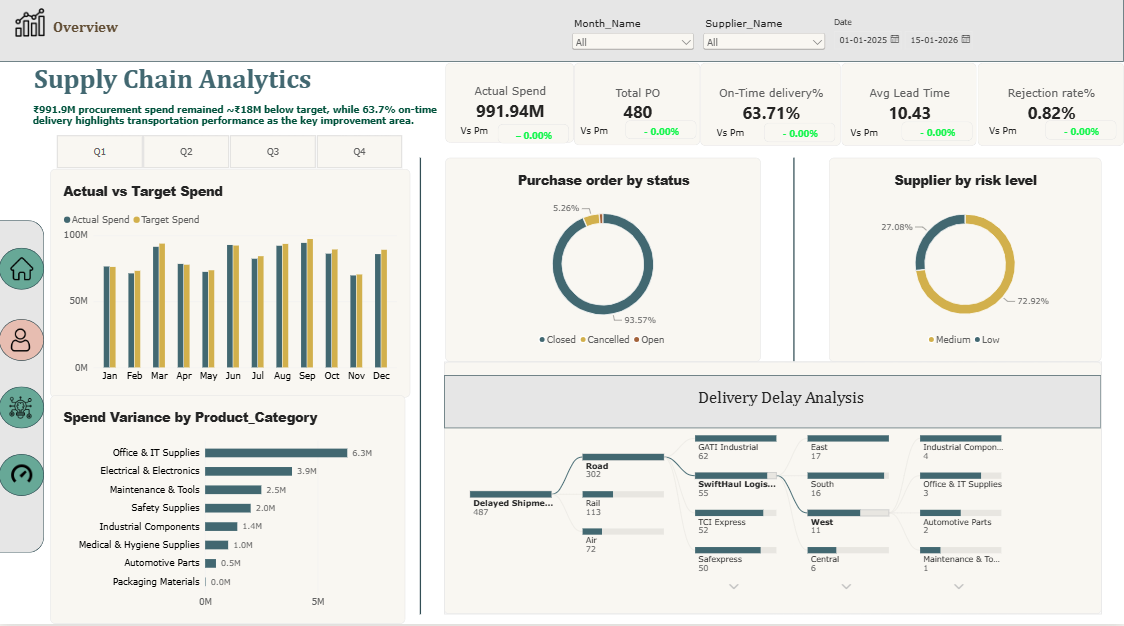

The dashboard page shown, as its layout file describes it:
{"tool":"powerbi","page":{"name":"Overview","canvas":[1800,1000],"ordinal":1},"visuals":[{"type":"shape","box":[0,0,1799.6,100.5],"z":0,"group":"g8"},{"type":"cardVisual","fields":{"Data":["1st page measures.Rejection rate%"]},"box":[1565.3,101.5,234.7,133.9],"z":0,"group":"g6"},{"type":"cardVisual","fields":{"Data":["1st page measures.Mom Var Rejection Rate"]},"box":[1673.8,193.8,114.9,31],"z":1000,"group":"g6"},{"type":"shape","box":[0,353.6,72,532],"z":1000},{"type":"textbox","box":[85.5,30.2,135.7,53.6],"z":2000,"group":"g8"},{"type":"textbox","box":[1583.8,201.3,78.8,23.8],"z":2000,"group":"g6"},{"type":"image","box":[25.1,0,46.9,75.4],"z":3000,"group":"g8"},{"type":"textbox","box":[56,102,508,66],"z":4000},{"type":"shape","box":[0,398.8,72.1,67],"z":5000},{"type":"shape","box":[0,512.7,72.1,67],"z":6000},{"type":"shape","box":[0,620,72.1,67],"z":7000},{"type":"shape","box":[0,727.2,72.1,67],"z":8000},{"type":"image","box":[18.4,398.8,36.9,67],"z":9000},{"type":"image","box":[18.4,727.2,36.9,67],"z":10000},{"type":"image","box":[16.8,512.7,36.9,67],"z":11000},{"type":"image","box":[16.8,620,36.9,67],"z":12000},{"type":"cardVisual","fields":{"Data":["1st page measures.Actual_procurement_spend"]},"box":[713.5,102.9,206.9,128.7],"z":13000,"group":"g2"},{"type":"clusteredColumnChart","title":"Actual vs Target Spend","fields":{"Category":["Dim_date.Month_Name"],"Y":["1st page measures.Actual Spend","1st page measures.Target Spend"]},"box":[81.6,271.1,576.4,365.3],"z":13000},{"type":"cardVisual","fields":{"Data":["1st page measures.Total PO"]},"box":[920.8,102.2,202.5,132.5],"z":14000,"group":"g9"},{"type":"cardVisual","fields":{"Data":["1st page measures.On-Time delivery%"]},"box":[1121.2,102.5,225,133.9],"z":14000,"group":"g4"},{"type":"cardVisual","fields":{"Data":["1st page measures.Mom Var spend"]},"box":[797.7,200.1,114.9,31],"z":14000,"group":"g2"},{"type":"clusteredBarChart","fields":{"Category":["Dim_Category.Product_Category"],"Y":["1st page measures.Spend Variance"]},"box":[81.6,634.2,568.1,365.3],"z":14000},{"type":"cardVisual","fields":{"Data":["1st page measures.Mom Var Total PO"]},"box":[1002.4,195,114.8,30.7],"z":15000,"group":"g9"},{"type":"shape","box":[595.7,254.3,156.5,730.4],"z":15000},{"type":"cardVisual","fields":{"Data":["1st page measures.Mom Var On-Time Delivery"]},"box":[1222.6,197.5,114.9,31],"z":16000,"group":"g4"},{"type":"donutChart","title":"Purchase order by status","fields":{"Category":["Fact_Procurement.PO_Status"],"Y":["1st page measures.Total PO"]},"box":[713.1,254.1,504.9,326.2],"z":16000},{"type":"cardVisual","fields":{"Data":["1st page measures.Avg Lead Time"]},"box":[1348.5,101.5,216.7,133.9],"z":17000,"group":"g5"},{"type":"donutChart","title":"Supplier by risk level","fields":{"Category":["Dim_Supplier.Risk_Level"],"Y":["Count(Dim_Supplier.Supplier_ID)"]},"box":[1327.9,254.1,436.1,326.2],"z":17000},{"type":"shape","box":[1193.4,254.1,155.7,326.2],"z":18000},{"type":"decompositionTreeVisual","fields":{"Analyze":["1st page measures.Delayed Shipments"],"ExplainBy":["Fact_Procurement.Transport_Mode","Dim_carrier.Carrier_Name","Dim_Buyer.Region","Dim_Category.Product_Category"]},"box":[713,580.4,1052.2,404.3],"z":19000,"group":"g7"},{"type":"shape","box":[712.1,603,1051.5,84.8],"z":20000,"group":"g7"},{"type":"textbox","box":[100,354.5,1309.1,45.5],"z":21000},{"type":"slicer","fields":{"Values":["Dim_date.Month_Name"]},"box":[912.6,28.7,205.3,71.1],"z":22000,"group":"g8"},{"type":"group","id":"g1","title":"Group 1","box":[711.5,102.9,209.2,131],"z":23000},{"type":"textbox","box":[54,169,659.8,49.4],"z":24000},{"type":"textbox","box":[1118,620,292,34],"z":25000,"group":"g7"},{"type":"slicer","fields":{"Values":["Dim_Supplier.Supplier_Name"]},"box":[1121.8,28.7,205.3,71.1],"z":26000,"group":"g8"},{"type":"textbox","box":[711.5,202.4,96.6,31],"z":26000,"group":"g2"},{"type":"slicer","fields":{"Values":["Dim_date.Date"]},"box":[1327.6,29.9,234.5,71.3],"z":27000,"group":"g8"},{"type":"slicer","fields":{"Values":["Dim_date.Quarter"]},"box":[72.4,216.1,592,56.3],"z":28000},{"type":"group","id":"g2","title":"Group 2","box":[711.5,102.9,208.9,130.5],"z":28001,"group":"g1"},{"type":"group","id":"g3","title":"Group 3","box":[920.8,102.2,202.5,132.5],"z":29000},{"type":"group","id":"g4","title":"Group 5","box":[1121.2,102.5,225,143.8],"z":30000},{"type":"group","id":"g5","title":"Group 6","box":[1348.5,101.5,216.7,133.9],"z":31000},{"type":"group","id":"g6","title":"Group 7","box":[1565.3,101.5,234.7,133.9],"z":32000},{"type":"group","id":"g7","title":"Group 8","box":[712.1,580.4,1053.1,404.3],"z":32001},{"type":"group","id":"g8","title":"Group 9","box":[0,0,1799.6,101.1],"z":32002},{"type":"textbox","box":[931.2,202.4,58.7,30.9],"z":33001,"group":"g9"},{"type":"cardVisual","fields":{"Data":["1st page measures.Mom Var Avg Lead Time"]},"box":[1444.9,195.3,114.9,31],"z":34000,"group":"g5"},{"type":"group","id":"g9","title":"Group 4","box":[920.8,102.2,202.5,132.5],"z":35001,"group":"g3"},{"type":"textbox","box":[1146.3,203.8,68.8,42.5],"z":35001,"group":"g4"},{"type":"textbox","box":[1362.4,202.8,67.5,25],"z":35003,"group":"g5"}]}

Visuals, with their boxes on the page's 1800x1000 design canvas (x1, y1, x2, y2). These are canvas units, not pixel positions in the 1124x626 screenshot, which may show the page scaled, cropped or inside an application window:
shape: detection(0, 0, 1800, 100)
cardVisual - 1st page measures.Rejection rate%: detection(1565, 102, 1800, 235)
cardVisual - 1st page measures.Mom Var Rejection Rate: detection(1674, 194, 1789, 225)
shape: detection(0, 354, 72, 886)
textbox: detection(86, 30, 221, 84)
textbox: detection(1584, 201, 1663, 225)
image: detection(25, 0, 72, 75)
textbox: detection(56, 102, 564, 168)
shape: detection(0, 399, 72, 466)
shape: detection(0, 513, 72, 580)
shape: detection(0, 620, 72, 687)
shape: detection(0, 727, 72, 794)
image: detection(18, 399, 55, 466)
image: detection(18, 727, 55, 794)
image: detection(17, 513, 54, 580)
image: detection(17, 620, 54, 687)
cardVisual - 1st page measures.Actual_procurement_spend: detection(714, 103, 920, 232)
"Actual vs Target Spend" clusteredColumnChart: detection(82, 271, 658, 636)
cardVisual - 1st page measures.Total PO: detection(921, 102, 1123, 235)
cardVisual - 1st page measures.On-Time delivery%: detection(1121, 102, 1346, 236)
cardVisual - 1st page measures.Mom Var spend: detection(798, 200, 913, 231)
clusteredBarChart - Dim_Category.Product_Category x 1st page measures.Spend Variance: detection(82, 634, 650, 1000)
cardVisual - 1st page measures.Mom Var Total PO: detection(1002, 195, 1117, 226)
shape: detection(596, 254, 752, 985)
cardVisual - 1st page measures.Mom Var On-Time Delivery: detection(1223, 198, 1338, 228)
"Purchase order by status" donutChart: detection(713, 254, 1218, 580)
cardVisual - 1st page measures.Avg Lead Time: detection(1348, 102, 1565, 235)
"Supplier by risk level" donutChart: detection(1328, 254, 1764, 580)
shape: detection(1193, 254, 1349, 580)
decompositionTreeVisual - 1st page measures.Delayed Shipments x Fact_Procurement.Transport_Mode: detection(713, 580, 1765, 985)
shape: detection(712, 603, 1764, 688)
textbox: detection(100, 354, 1409, 400)
slicer - Dim_date.Month_Name: detection(913, 29, 1118, 100)
"Group 1" group: detection(712, 103, 921, 234)
textbox: detection(54, 169, 714, 218)
textbox: detection(1118, 620, 1410, 654)
slicer - Dim_Supplier.Supplier_Name: detection(1122, 29, 1327, 100)
textbox: detection(712, 202, 808, 233)
slicer - Dim_date.Date: detection(1328, 30, 1562, 101)
slicer - Dim_date.Quarter: detection(72, 216, 664, 272)
"Group 2" group: detection(712, 103, 920, 233)
"Group 3" group: detection(921, 102, 1123, 235)
"Group 5" group: detection(1121, 102, 1346, 246)
"Group 6" group: detection(1348, 102, 1565, 235)
"Group 7" group: detection(1565, 102, 1800, 235)
"Group 8" group: detection(712, 580, 1765, 985)
"Group 9" group: detection(0, 0, 1800, 101)
textbox: detection(931, 202, 990, 233)
cardVisual - 1st page measures.Mom Var Avg Lead Time: detection(1445, 195, 1560, 226)
"Group 4" group: detection(921, 102, 1123, 235)
textbox: detection(1146, 204, 1215, 246)
textbox: detection(1362, 203, 1430, 228)
